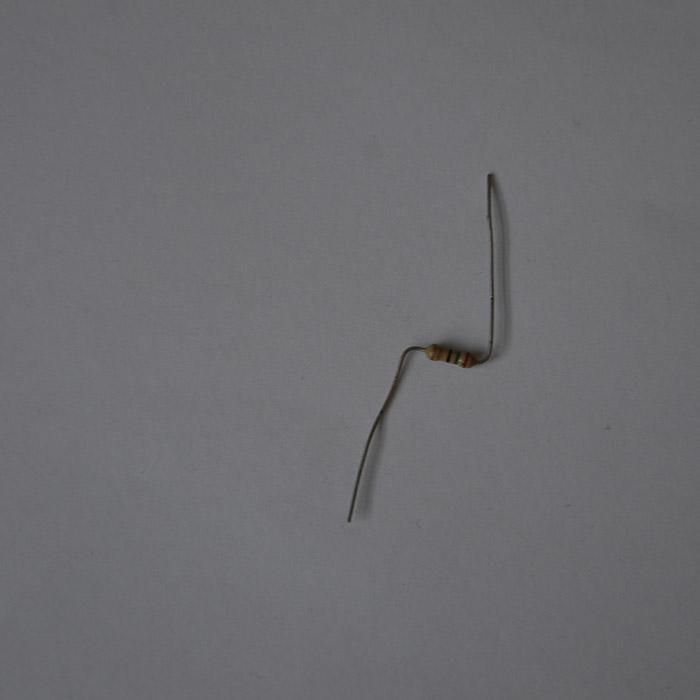resistor: (423, 343, 474, 367)
